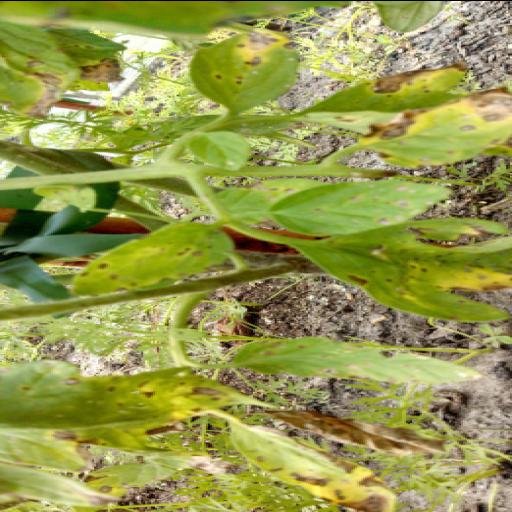disease_tomato: (0, 358, 277, 432), (226, 415, 392, 511), (70, 220, 236, 292), (232, 337, 478, 385), (355, 90, 512, 165), (269, 178, 451, 234), (186, 26, 304, 109), (304, 58, 465, 112)
